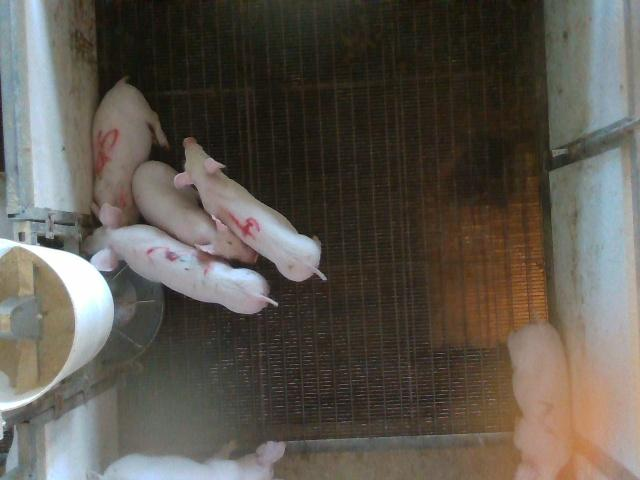pig-1: (100, 441, 284, 479)
pig-2: (509, 321, 571, 478)
pig-3: (84, 204, 278, 314)
pig-4: (175, 138, 326, 281)
pig-5: (94, 78, 169, 224)
